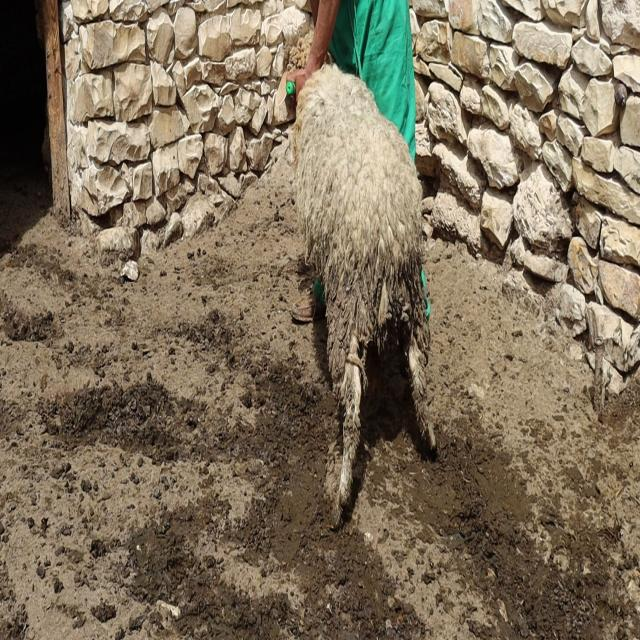Score_2: (291, 64, 436, 524)
